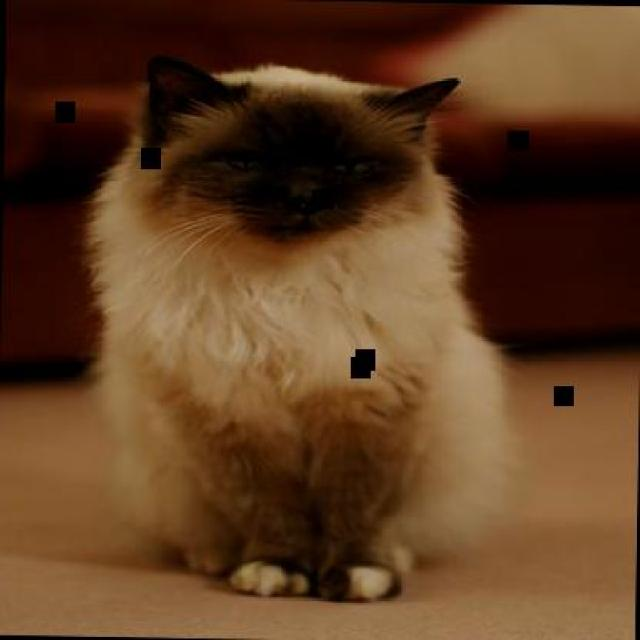cat: (72, 53, 513, 605)
